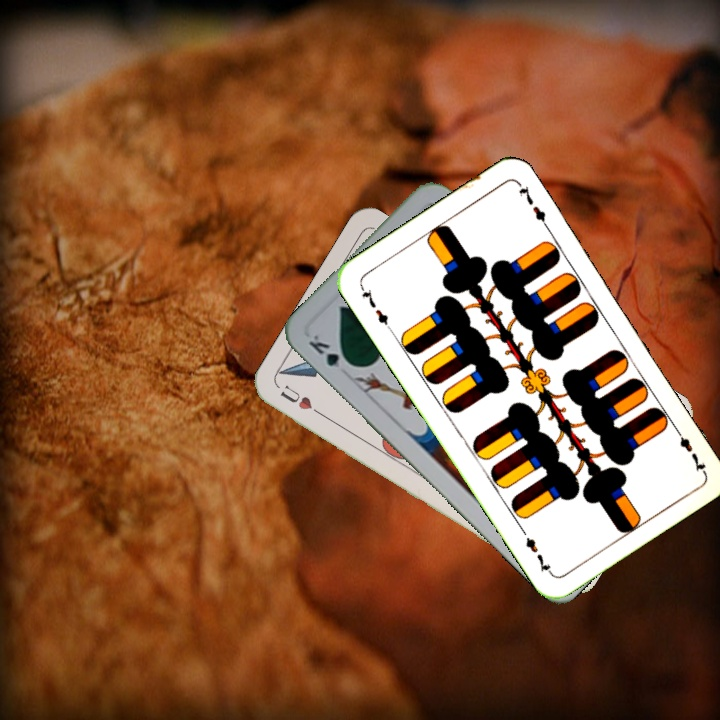E7: (356, 281, 395, 334), (670, 422, 708, 475)
GK: (304, 330, 356, 374)
HU: (276, 381, 328, 420)
